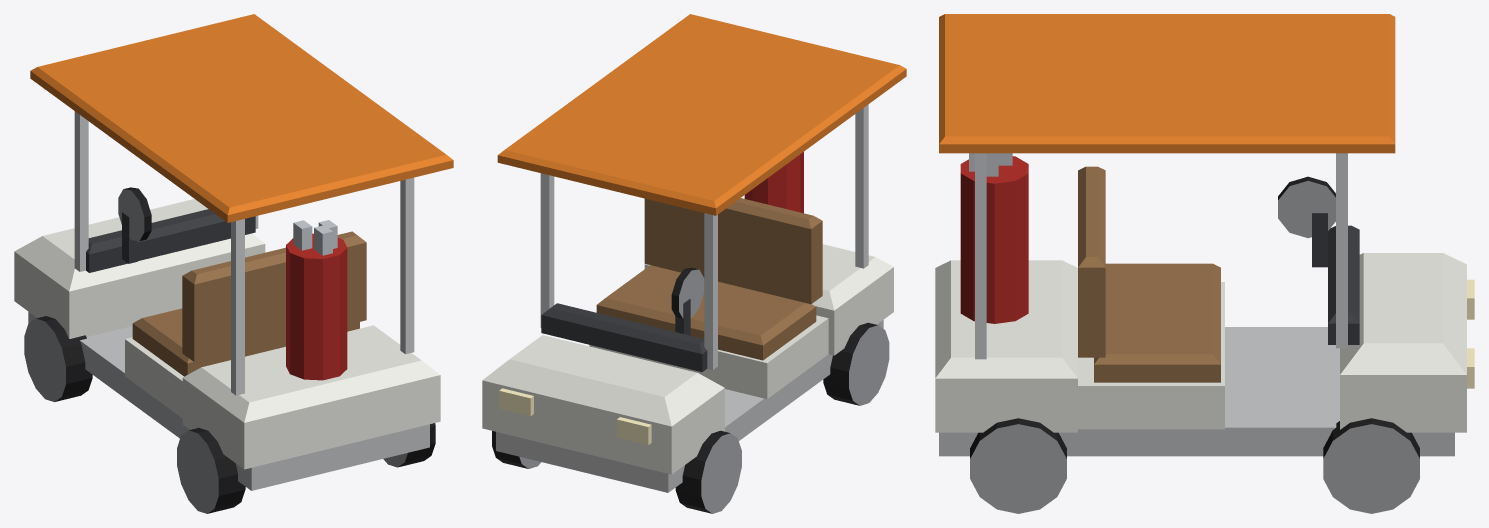
The model's file is cart_orange.glb.
3 views of the same model, side by side, from view 1: azimuth 30°, elevation 25°; view 2: azimuth 150°, elevation 25°; view 3: azimuth 270°, elevation 25° (orthographic). The views are drawn at different scales.
Parts seen in each view (by area): view 1: cart_body; view 2: cart_body; view 3: cart_body.
Boxes of the visible parts, left/top/right/bottom form: cart_body: left=14, top=14, right=453, bottom=513; cart_body: left=482, top=14, right=906, bottom=513; cart_body: left=935, top=14, right=1474, bottom=513.
Size of the model in its own units: 1.52 by 2.1 by 2.72.
1 material, 1 textured.
